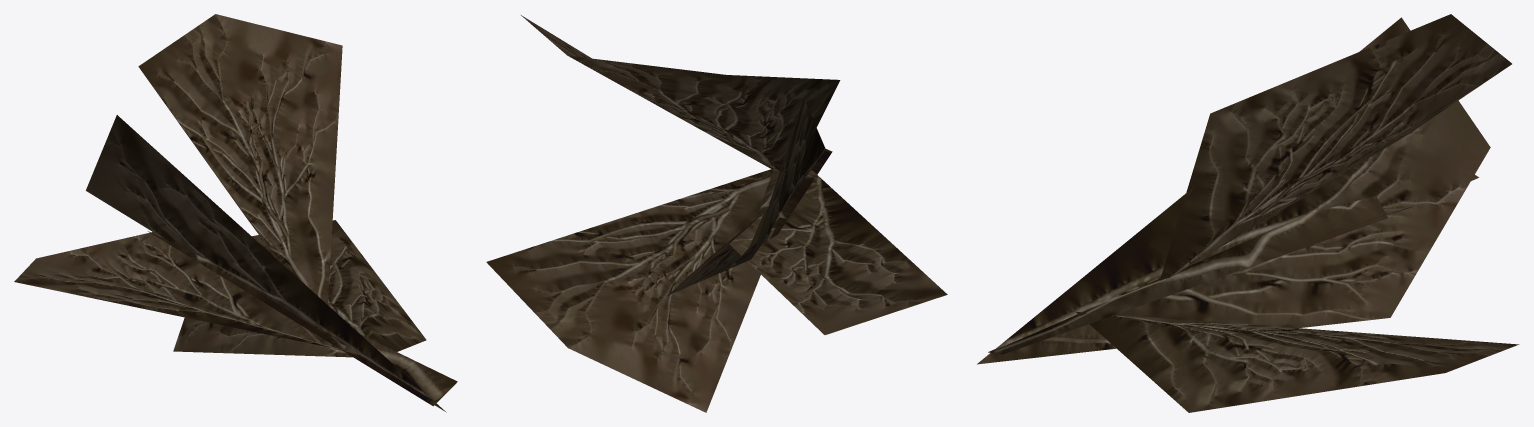
File: MEP_DTreeBranch_02.fbx
The picture shows the model from 3 angles, left to right: view 1: azimuth 30°, elevation 25°; view 2: azimuth 150°, elevation 25°; view 3: azimuth 270°, elevation 25°; orthographic projection. The views are drawn at different scales.
Parts seen in each view (by area): view 1: MEP_DTreeBranch_02; view 2: MEP_DTreeBranch_02; view 3: MEP_DTreeBranch_02.
Part boxes in pixels (bbox=[...]): MEP_DTreeBranch_02: bbox=[14, 14, 457, 412]; MEP_DTreeBranch_02: bbox=[486, 15, 947, 412]; MEP_DTreeBranch_02: bbox=[977, 14, 1519, 412].
Size of the model in its own units: 2.81 by 2.28 by 3.14.
